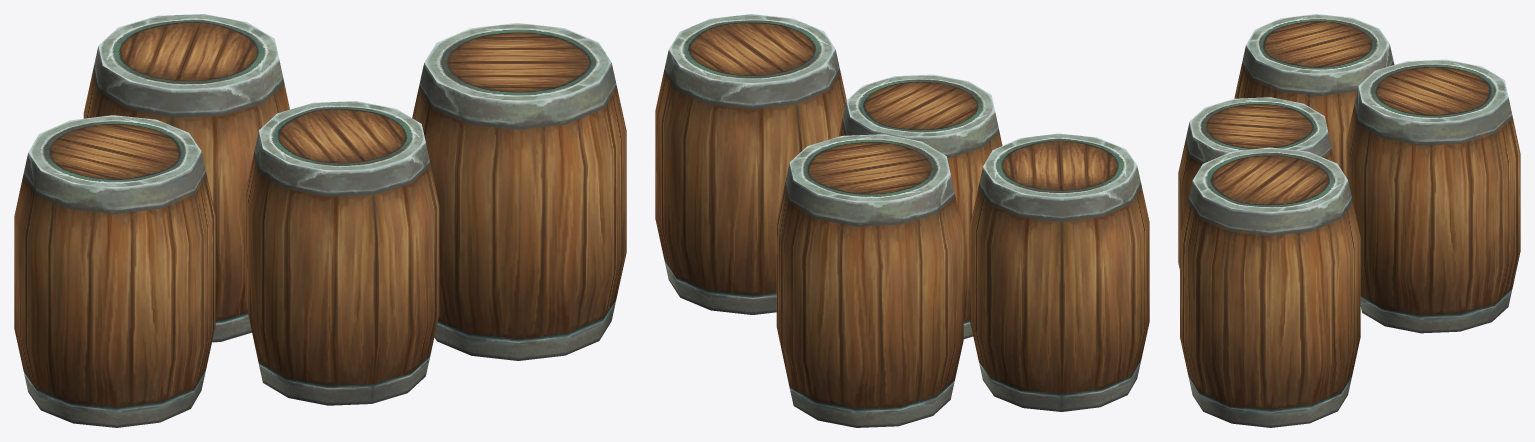
Rendered from Barrels_Preset_01.FBX.
3 renders of one model, left to right at view 1: azimuth 30°, elevation 25°; view 2: azimuth 150°, elevation 25°; view 3: azimuth 270°, elevation 25°, orthographic. The views are drawn at different scales.
Visible parts, largest first — view 1: Barrels_Preset_01; view 2: Barrels_Preset_01; view 3: Barrels_Preset_01.
Boxes of the visible parts, box(x1,y1,x2,y2) form: Barrels_Preset_01: box(14, 14, 626, 427); Barrels_Preset_01: box(655, 14, 1149, 427); Barrels_Preset_01: box(1178, 14, 1520, 427).
Bounding box in the file's own units: 223 × 143 × 99.38.
